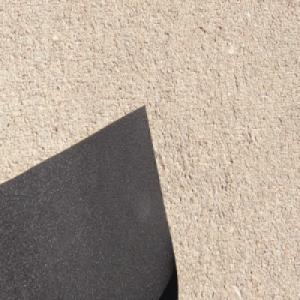PaintChip: (0, 98, 181, 300)
